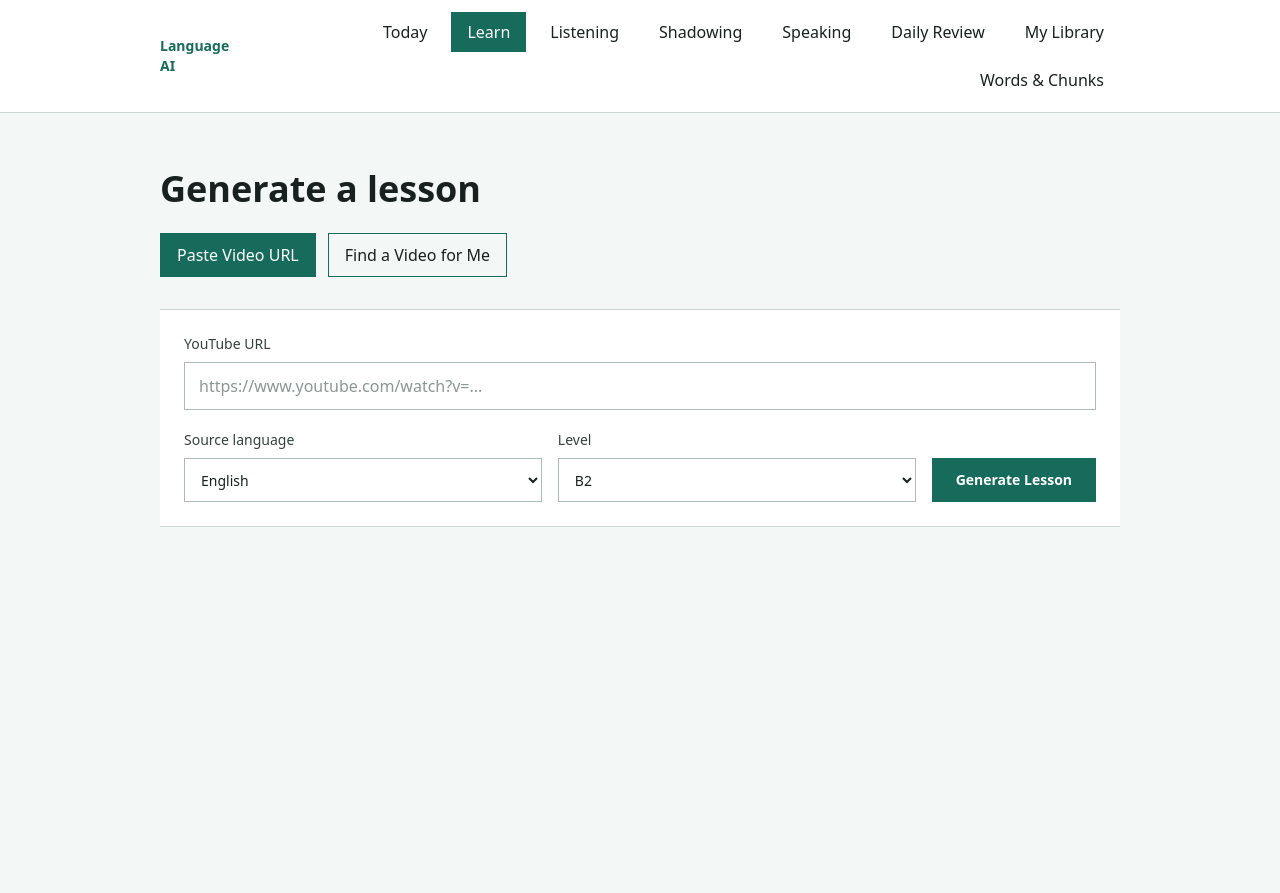
Test case: App Library navigation › restores the saved Lesson and canonical position into the Personal Session
The image size is (1280, 893).
Click the button "My Library": (1064, 32) [1009, 12, 1120, 52]
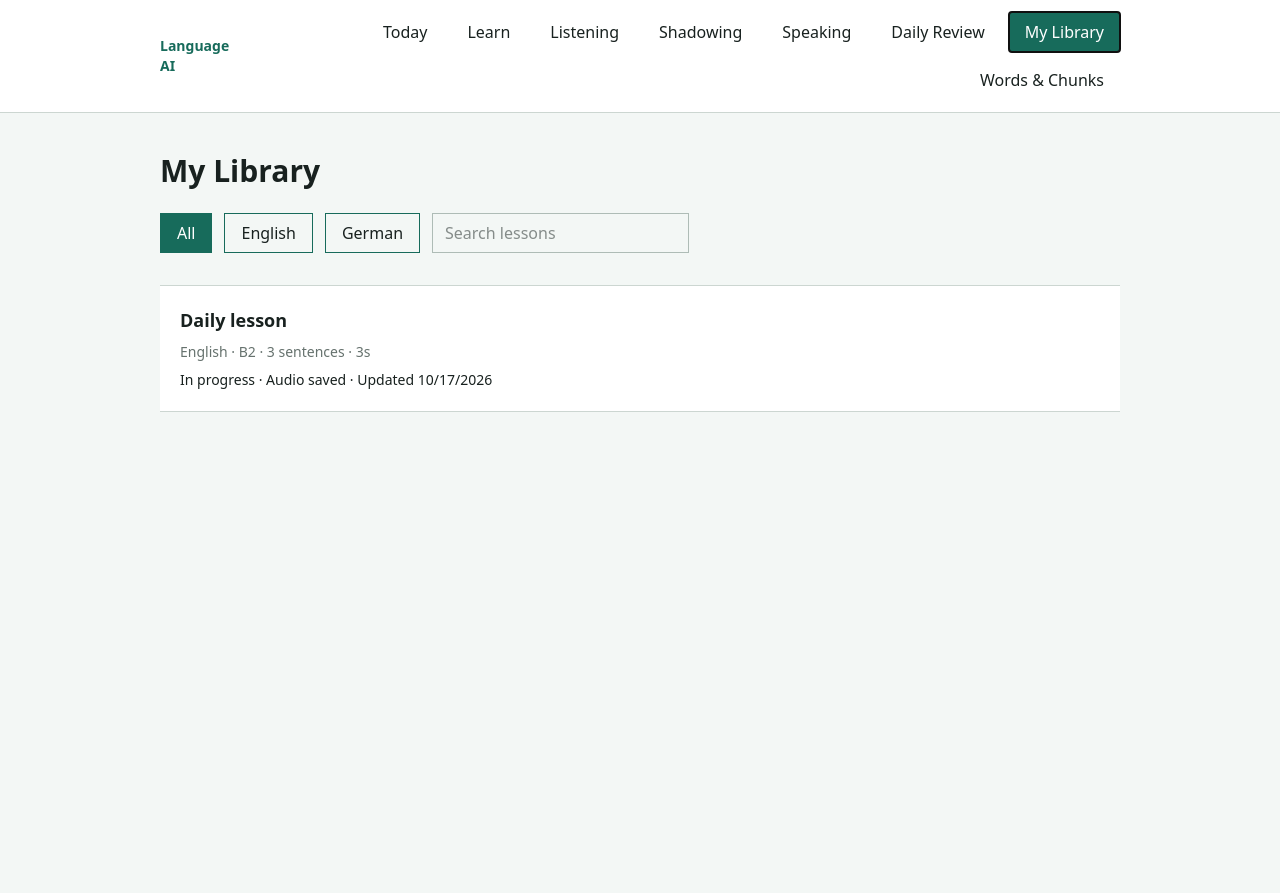
Click the button "Daily lesson": (234, 320) [180, 306, 1100, 390]
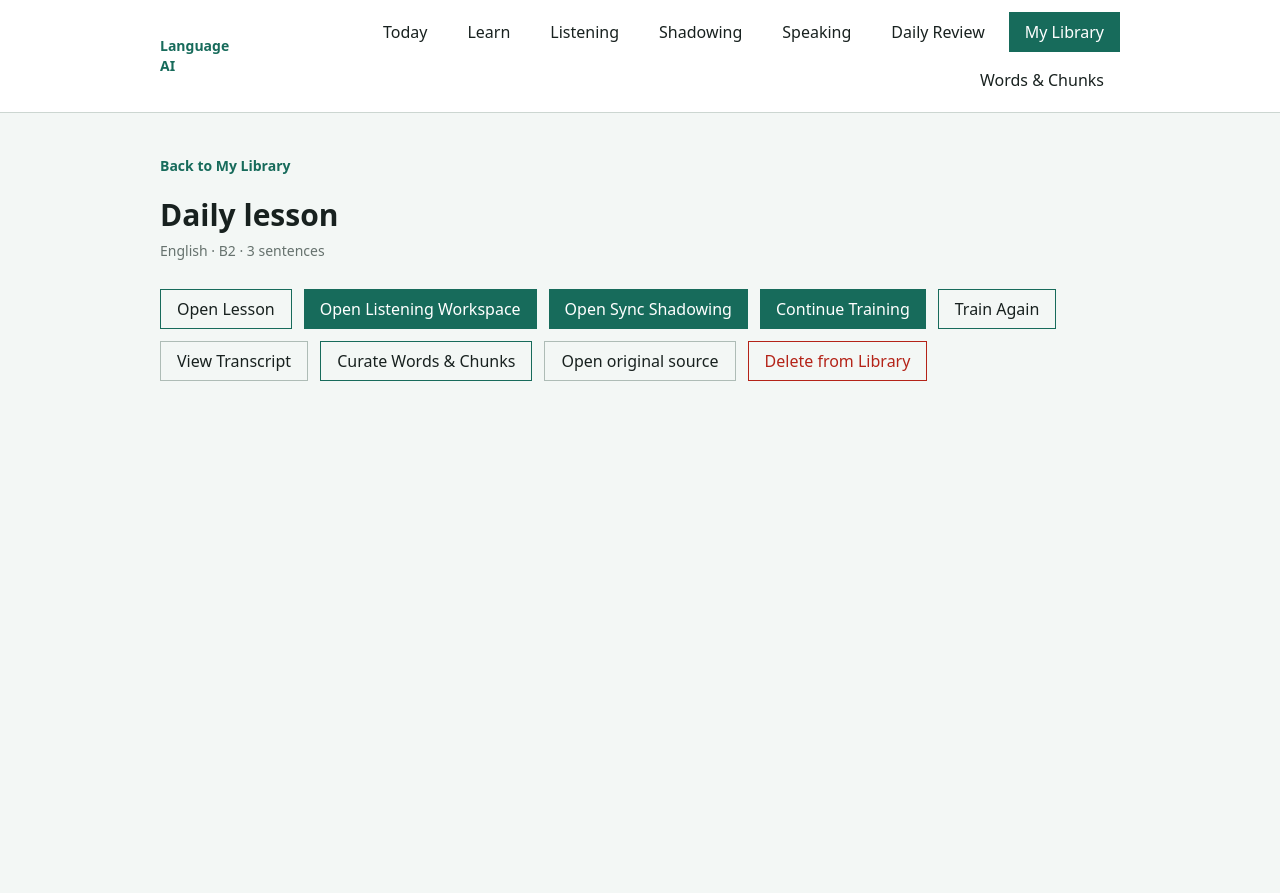
Click the button "Continue Training": (843, 309) [760, 289, 926, 329]
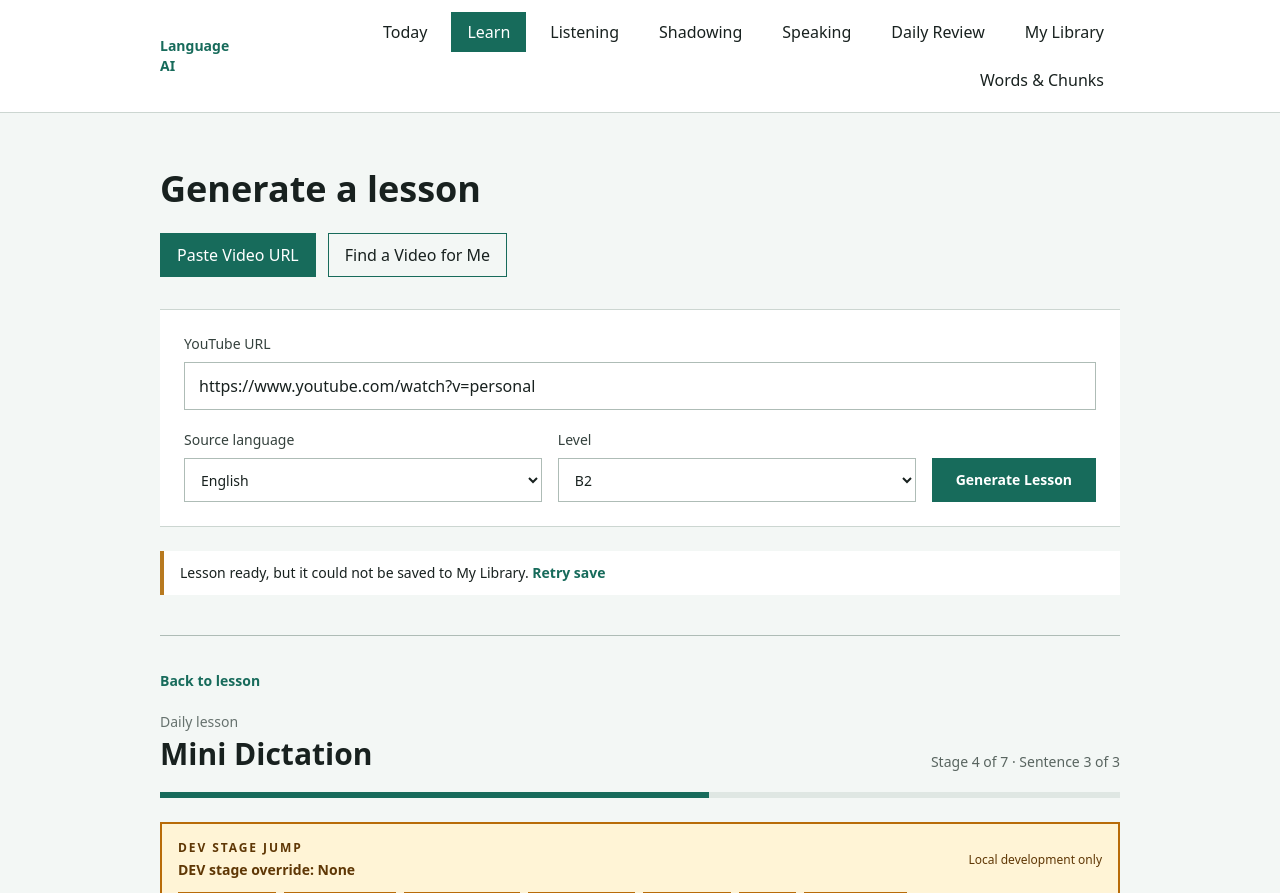
Result: the heading "Mini Dictation" is shown at [160, 736, 372, 772]
